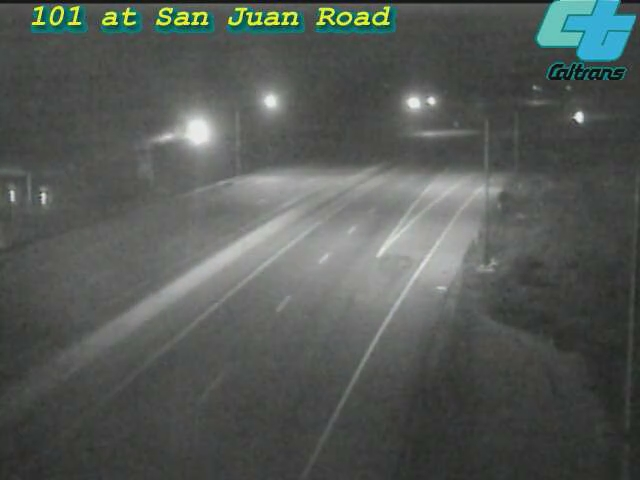vehicle: (556, 92, 606, 142)
